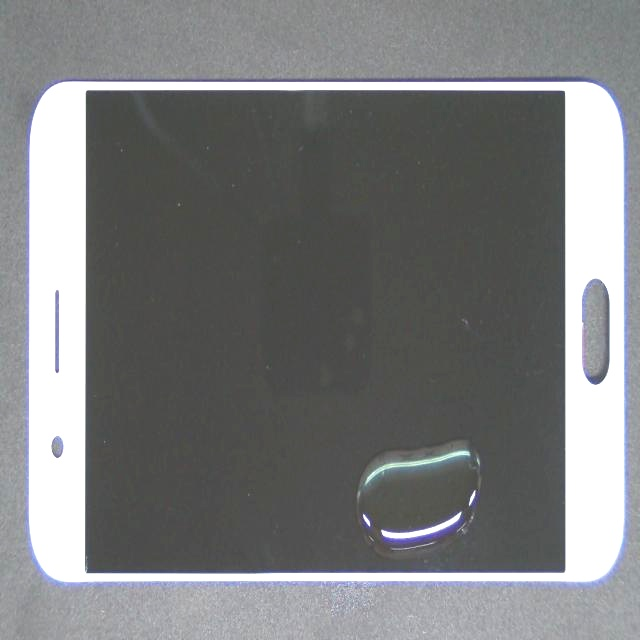oil: (244, 287, 640, 640)
